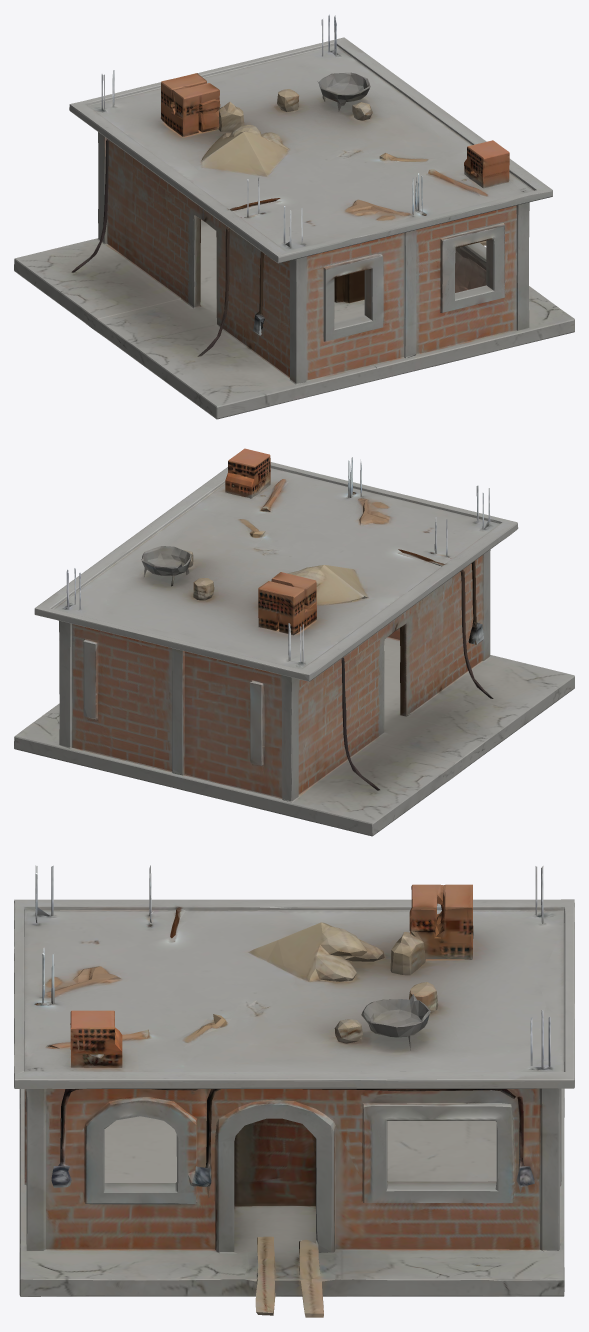
Rendered from casa obra negra 2.glb.
3 views of the same model, one above another, from view 1: azimuth 30°, elevation 25°; view 2: azimuth 150°, elevation 25°; view 3: azimuth 270°, elevation 25° (orthographic). The views are drawn at different scales.
Parts seen in each view (by area): view 1: tripo_node_56d440cf-1778-4d4a-96cc-fc5cf4f9b9b6; view 2: tripo_node_56d440cf-1778-4d4a-96cc-fc5cf4f9b9b6; view 3: tripo_node_56d440cf-1778-4d4a-96cc-fc5cf4f9b9b6.
Boxes of the visible parts, x1=… form: tripo_node_56d440cf-1778-4d4a-96cc-fc5cf4f9b9b6: x1=14, y1=14, x2=574, y2=419; tripo_node_56d440cf-1778-4d4a-96cc-fc5cf4f9b9b6: x1=14, y1=448, x2=574, y2=836; tripo_node_56d440cf-1778-4d4a-96cc-fc5cf4f9b9b6: x1=14, y1=865, x2=574, y2=1317.
Bounding box in the file's own units: 0.9987 × 0.4543 × 0.9176.
1 material, 1 textured.
